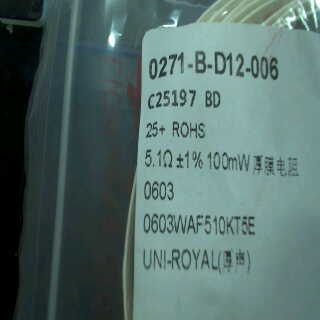5.1R: (142, 145, 177, 172)
